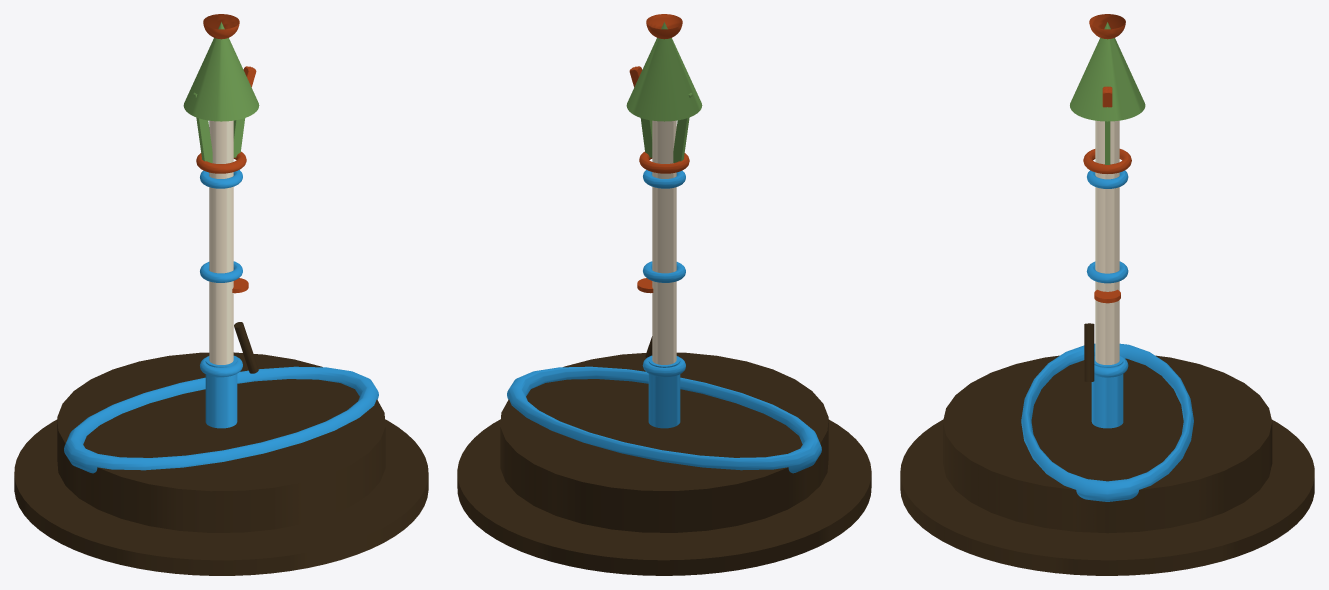
The model's file is 0575_伟大的发明图鉴_芯片.glb.
3 views of the same model, side by side, from view 1: azimuth 30°, elevation 25°; view 2: azimuth 150°, elevation 25°; view 3: azimuth 270°, elevation 25° (orthographic).
Visible parts, largest first — view 1: card_0575; view 2: card_0575; view 3: card_0575.
Part boxes in pixels (x1,y1,x2,y2): card_0575: (14,14,428,575); card_0575: (457,14,871,575); card_0575: (900,14,1314,575).
Bounding box in the file's own units: 0.8043 × 1 × 0.8048.
